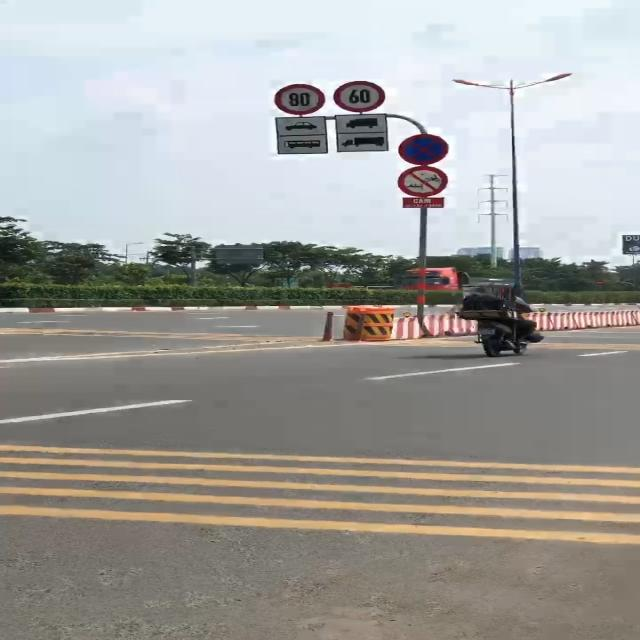Bien bao cam dung xe va do xe: (397, 133, 445, 167)
Bien bao toc do toi da cho phep: (331, 80, 388, 115), (272, 82, 330, 115)
